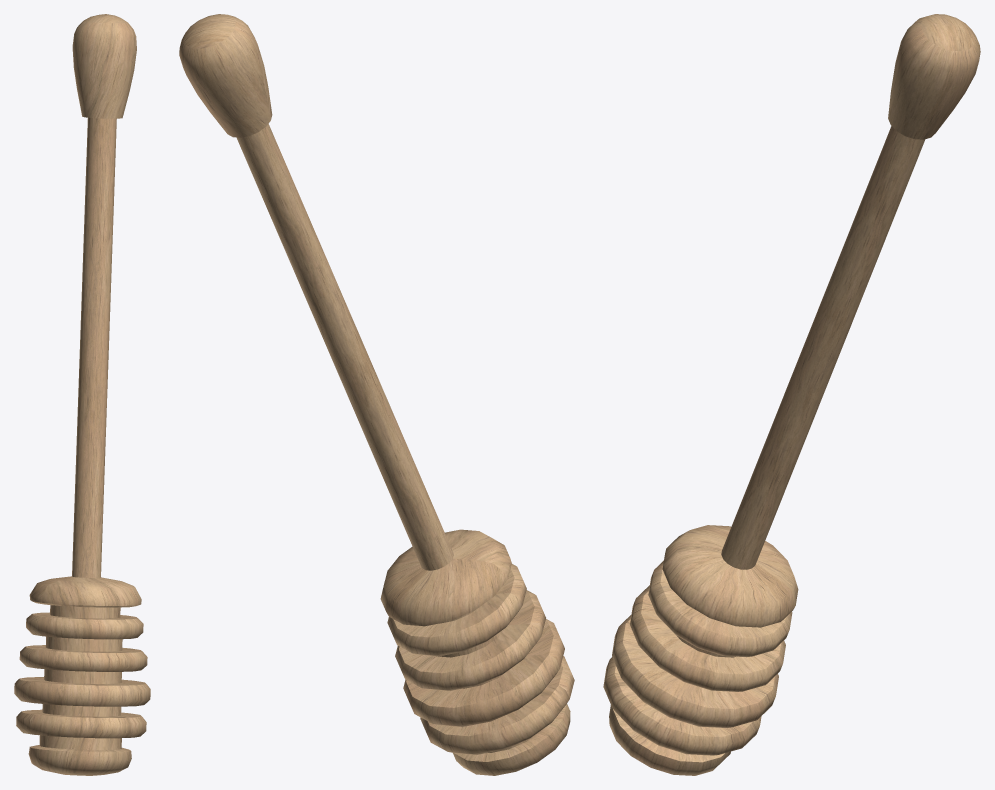
The model's file is honey_dipper.glb.
The picture shows the model from 3 angles, left to right: view 1: azimuth 30°, elevation 25°; view 2: azimuth 150°, elevation 25°; view 3: azimuth 270°, elevation 25°; orthographic projection. The views are drawn at different scales.
Parts seen in each view (by area): view 1: HoneyDipper_HoneyDipper_0; view 2: HoneyDipper_HoneyDipper_0; view 3: HoneyDipper_HoneyDipper_0.
Part boxes in pixels (x1,y1,x2,y2): HoneyDipper_HoneyDipper_0: [14, 14, 150, 775]; HoneyDipper_HoneyDipper_0: [179, 14, 574, 775]; HoneyDipper_HoneyDipper_0: [603, 14, 980, 775].
Bounding box in the file's own units: 0.0488 × 0.1457 × 0.0607.
Materials: 1 (1 with a texture image).
